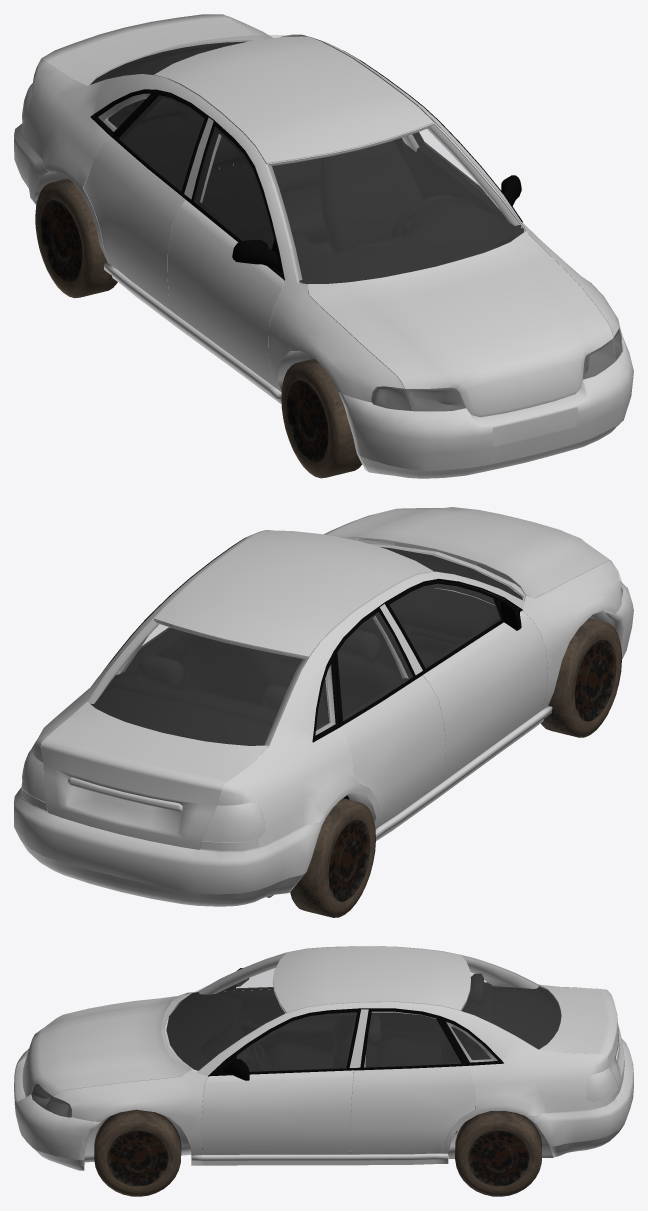
3 renders of one model, top to bottom at view 1: azimuth 30°, elevation 25°; view 2: azimuth 150°, elevation 25°; view 3: azimuth 270°, elevation 25°, orthographic. The views are drawn at different scales.
Visible parts, largest first — view 1: A4_Low, glass, tetiera008, roata low007, roata low008, stopInS002, Plaf_s002; view 2: A4_Low, tetiera008, glass, roata low008, roata low007, Plaf_s002, StopSpate; view 3: A4_Low, glass, tetiera008, roata low006, roata low005, Plaf_s002, StopSpate, stopInS002.
Part boxes in pixels (bbox=[...]): A4_Low: bbox=[14, 14, 633, 478]; glass: bbox=[91, 35, 623, 411]; tetiera008: bbox=[90, 41, 523, 293]; roata low007: bbox=[281, 358, 362, 478]; roata low008: bbox=[35, 178, 117, 298]; stopInS002: bbox=[214, 41, 622, 411]; Plaf_s002: bbox=[98, 36, 522, 282]; A4_Low: bbox=[14, 507, 633, 906]; tetiera008: bbox=[90, 537, 522, 799]; glass: bbox=[88, 534, 623, 745]; roata low008: bbox=[290, 798, 375, 917]; roata low007: bbox=[541, 618, 621, 737]; Plaf_s002: bbox=[87, 584, 518, 745]; StopSpate: bbox=[22, 748, 265, 842]; A4_Low: bbox=[14, 946, 633, 1170]; glass: bbox=[31, 955, 560, 1117]; tetiera008: bbox=[166, 968, 561, 1153]; roata low006: bbox=[94, 1109, 181, 1196]; roata low005: bbox=[455, 1111, 541, 1196]; Plaf_s002: bbox=[199, 955, 538, 1067]; StopSpate: bbox=[586, 1067, 617, 1102]; stopInS002: bbox=[31, 1083, 71, 1117].
Bounding box in the file's own units: 2.56 × 2.03 × 6.49.
